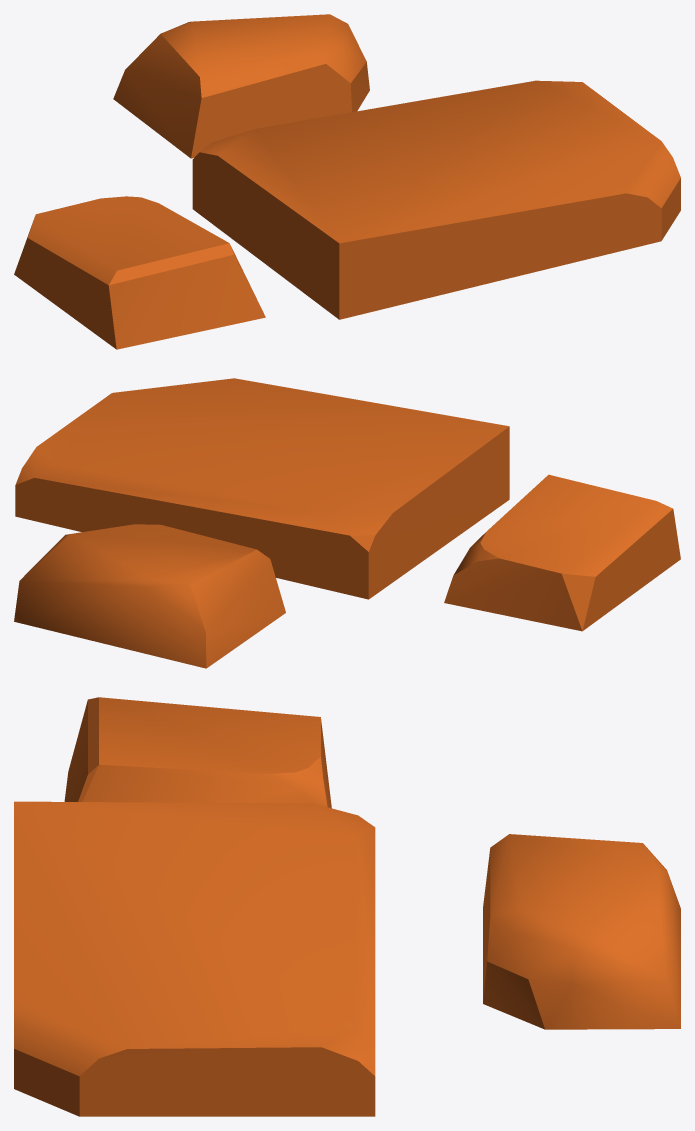
Rendered from OBJ_SmallRock_02.FBX.
The picture shows the model from 3 angles, top to bottom: view 1: azimuth 30°, elevation 25°; view 2: azimuth 150°, elevation 25°; view 3: azimuth 270°, elevation 25°; orthographic projection. The views are drawn at different scales.
Parts seen in each view (by area): view 1: OBJ_SmallRock_02; view 2: OBJ_SmallRock_02; view 3: OBJ_SmallRock_02.
Part boxes in pixels (<box>): OBJ_SmallRock_02: <box>14,14,680,349</box>; OBJ_SmallRock_02: <box>14,378,680,668</box>; OBJ_SmallRock_02: <box>14,697,680,1116</box>.
Size of the model in its own units: 7.54 by 1.02 by 6.22.
